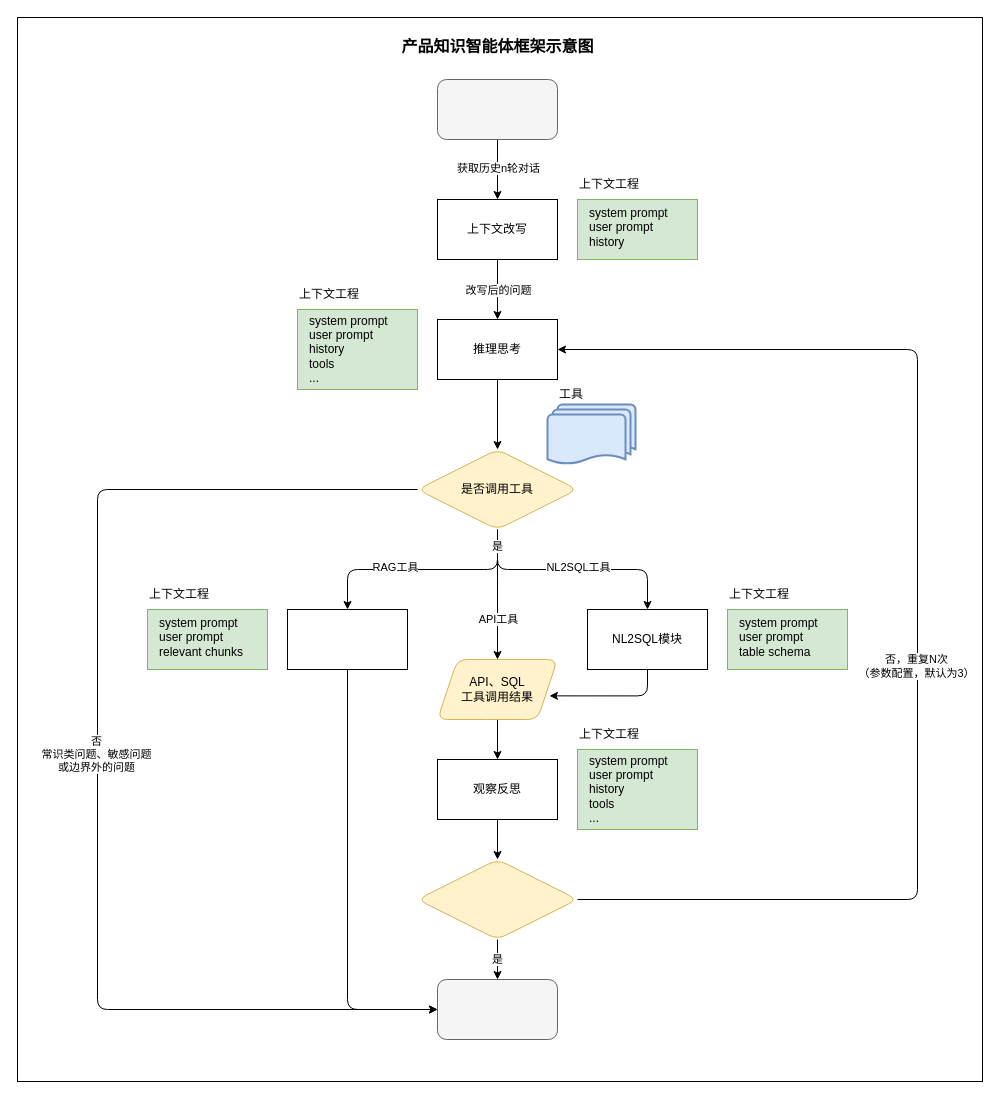
Image size: 1000x1099. Some labels were removed from this diagram. The shapes that lost their labels are listed below. From the top down, each one's centre as x and y in pixels, then its label:
At (497,109): "用户输入".
At (591,434): "API、RAG NL2SQL".
At (347,639): "RAG模块".
At (497,899): "目标是否完成".
At (497,1009): "回复输出".
